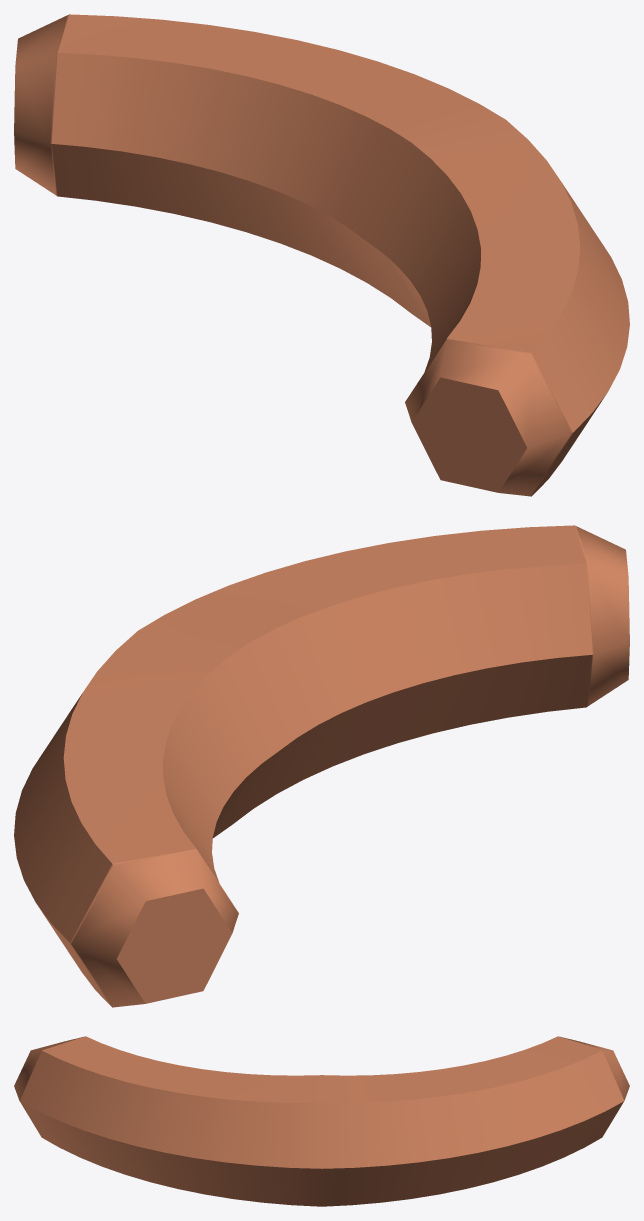
The model's file is Meat Sausage.glb.
The picture shows the model from 3 angles, top to bottom: view 1: azimuth 30°, elevation 25°; view 2: azimuth 150°, elevation 25°; view 3: azimuth 270°, elevation 25°; orthographic projection. The views are drawn at different scales.
Parts seen in each view (by area): view 1: meatSausage; view 2: meatSausage; view 3: meatSausage.
Boxes of the visible parts, box(x1,y1,x2,y2) form: meatSausage: box(14, 14, 629, 496); meatSausage: box(14, 525, 629, 1007); meatSausage: box(14, 1036, 629, 1206).
Bounding box in the file's own units: 0.1515 × 0.0727 × 0.3916.
